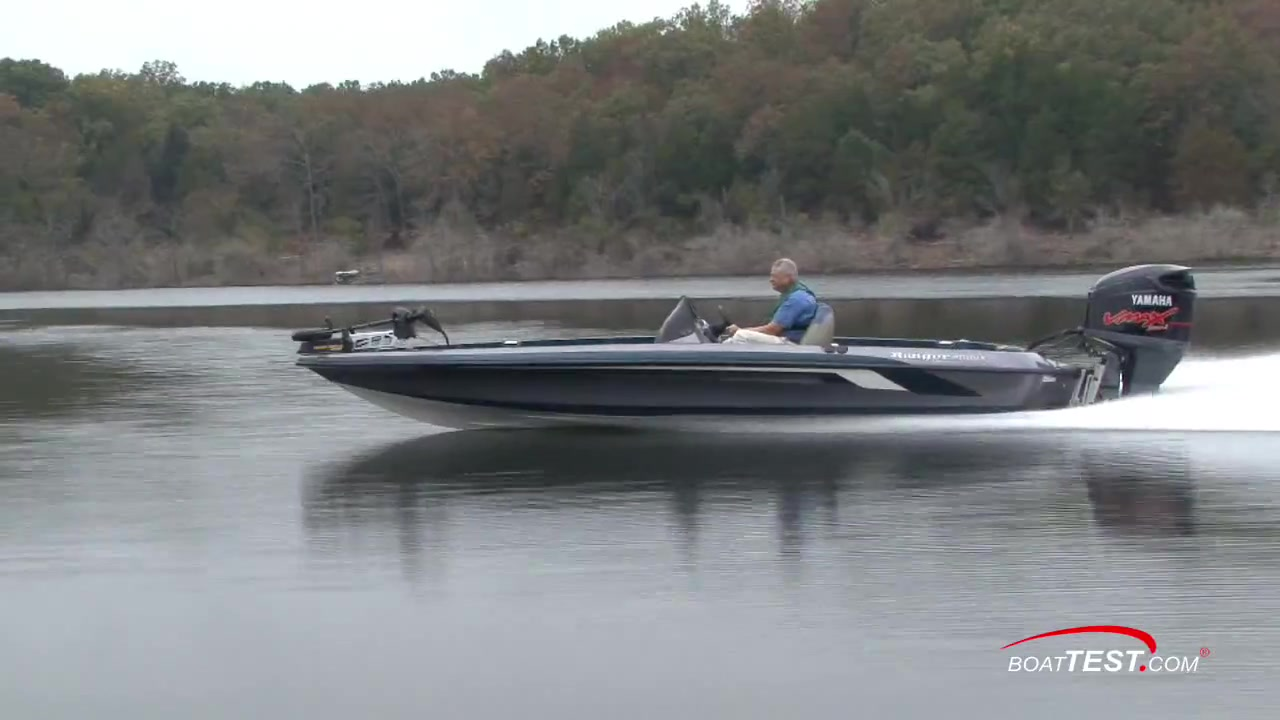boat: (298, 263, 1204, 430)
